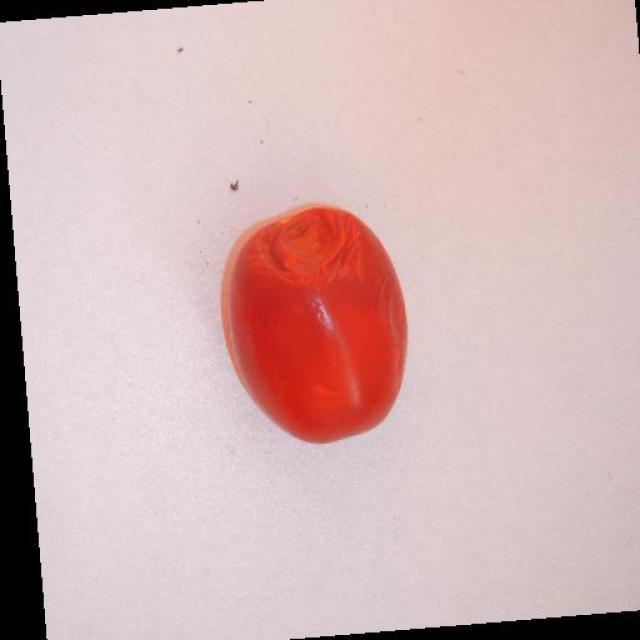Rotten Tomato: (222, 190, 410, 447)
